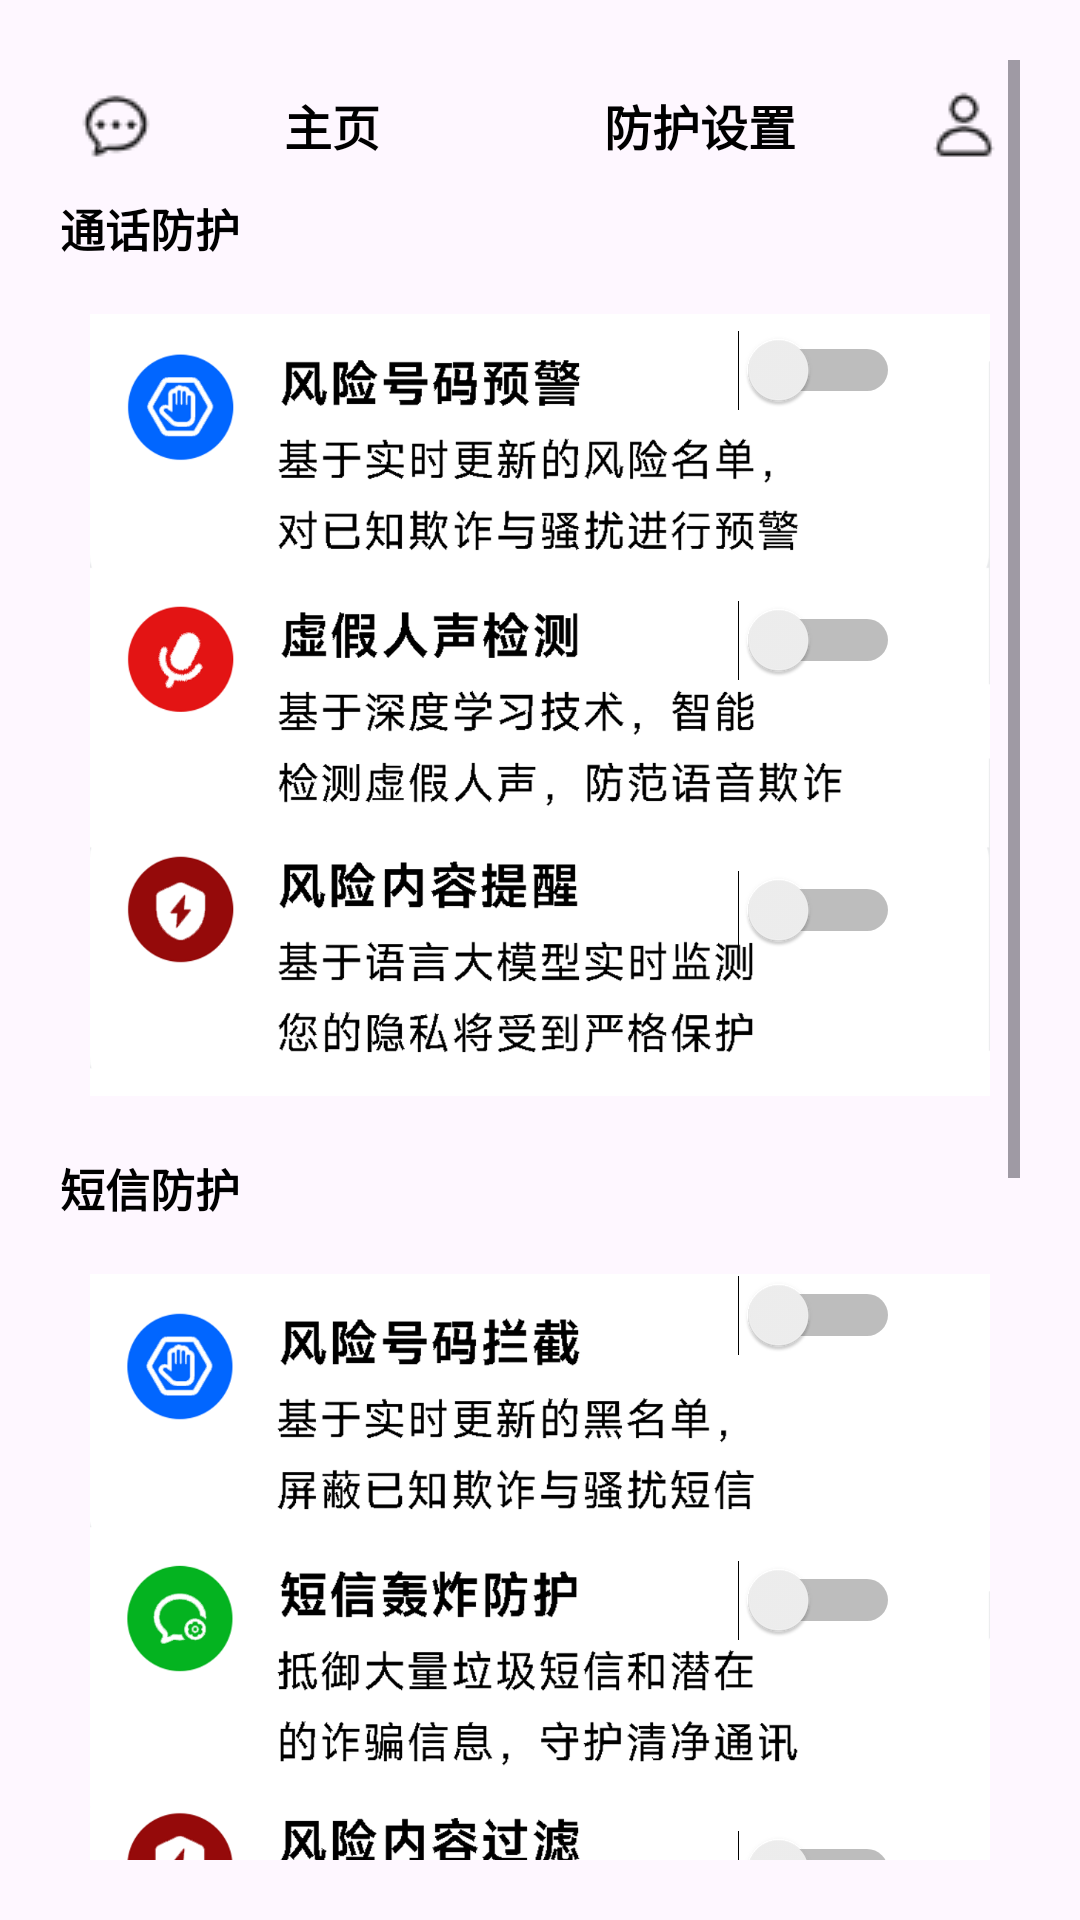

Named icons in this screenshot (1080 × 1920) and their bounding boxes, [x1, y1, x2, y2]:
ellipsis message: [83, 95, 149, 157]
person: [934, 92, 994, 157]
